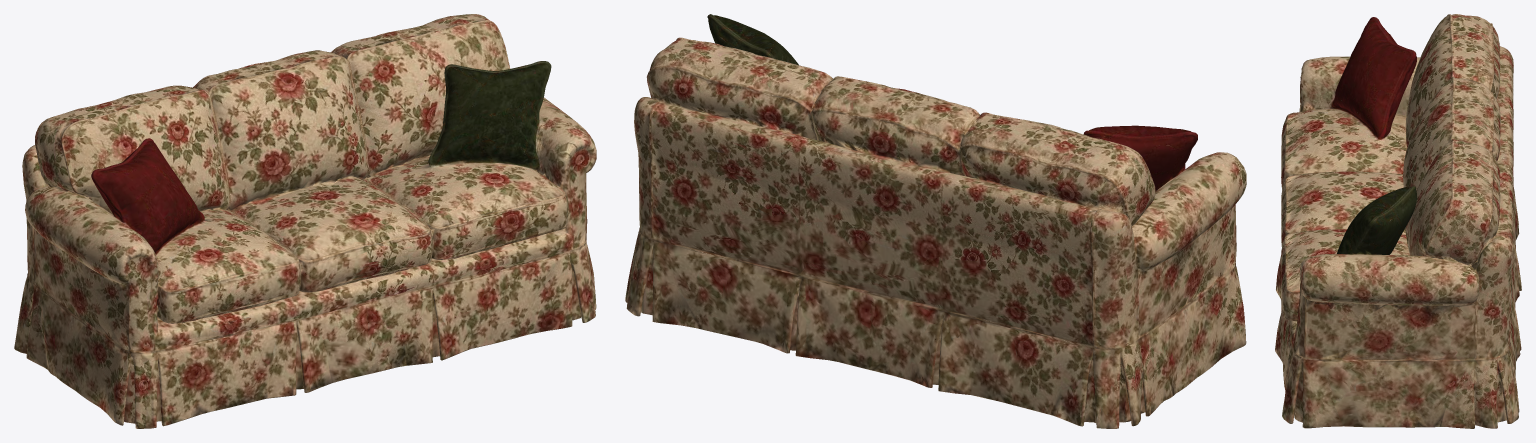
The model's file is sofa.glb.
3 views of the same model, side by side, from view 1: azimuth 30°, elevation 25°; view 2: azimuth 150°, elevation 25°; view 3: azimuth 270°, elevation 25° (orthographic). The views are drawn at different scales.
Size of the model in its own units: 1.9 by 0.871 by 0.8877.
Materials: 1 (1 with a texture image).
